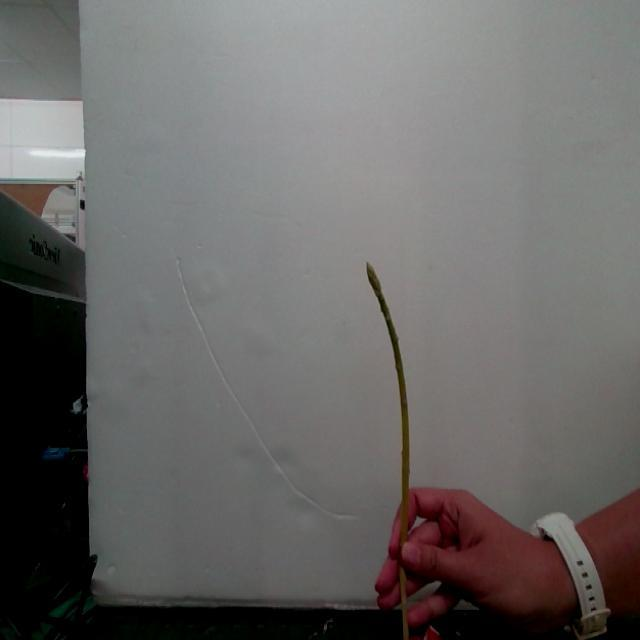aspargus: (365, 265, 414, 542)
